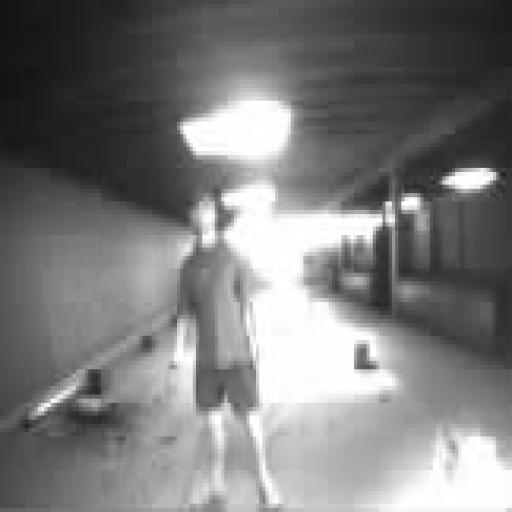human: (171, 194, 281, 511)
